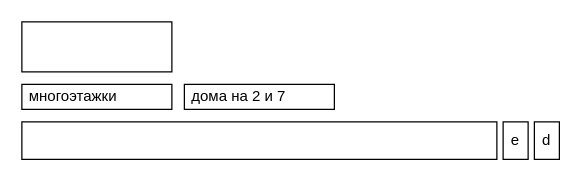
This 581x181 diagram has some shape labels left out. The shapes that lost their labels are listed below. From the top down, each one's centre as x and y in pixels, then its label:
(x=96, y=46): Участок 123
(x=259, y=140): УЛ МОЛОДЕЖНАЯ 2, 12, 22, 7, 17
